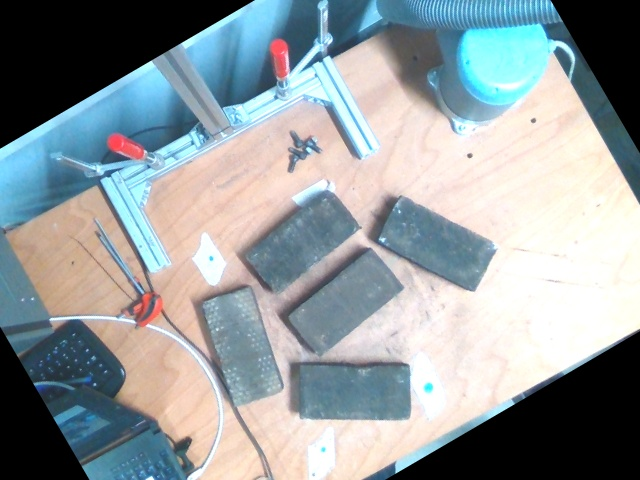brick: (245, 189, 360, 294), (377, 199, 497, 290), (289, 253, 398, 352), (205, 291, 279, 402), (301, 371, 404, 418)
